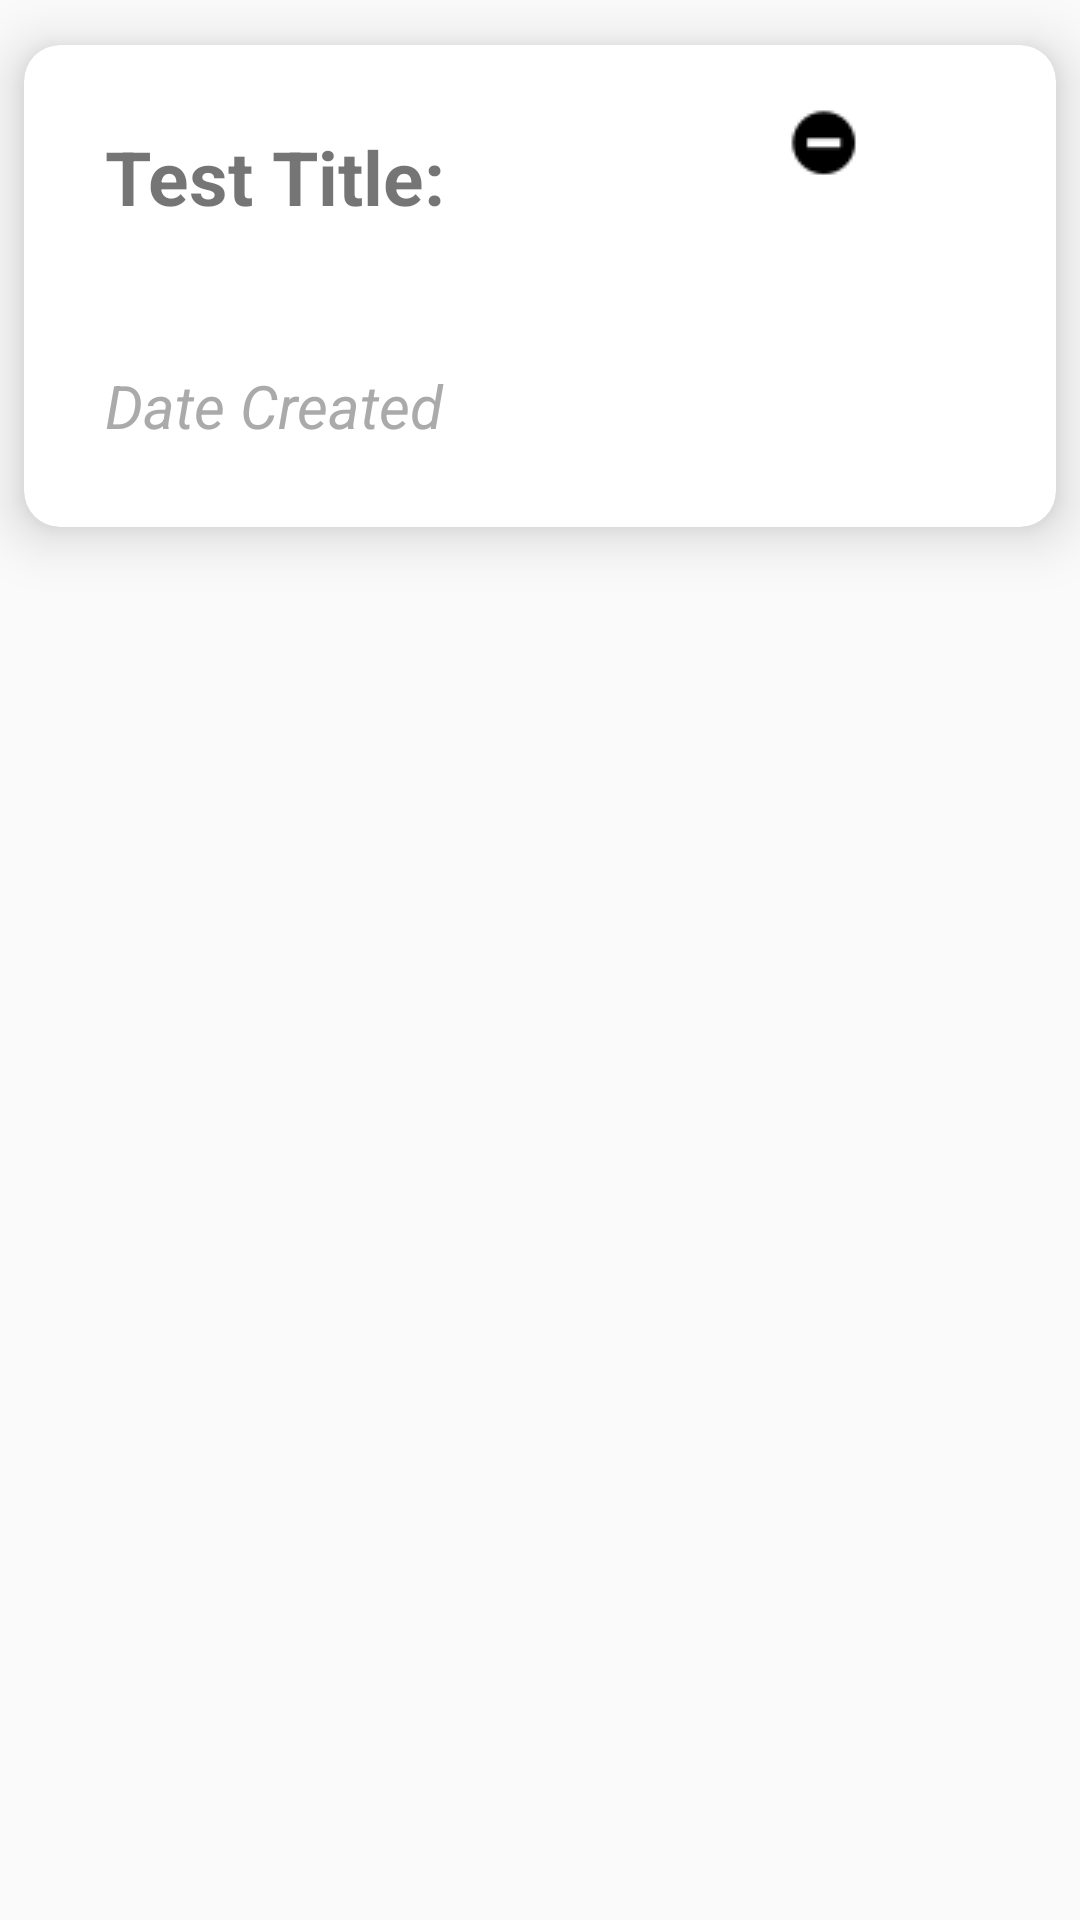

Named icons in this screenshot (1080x1920) and their centers, [x,y]:
circleminusicon: [823,142]
